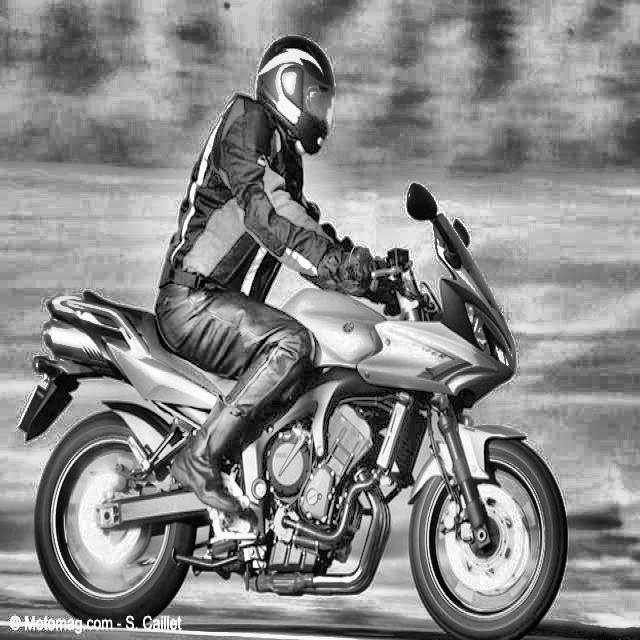Helmet: (251, 32, 339, 162)
